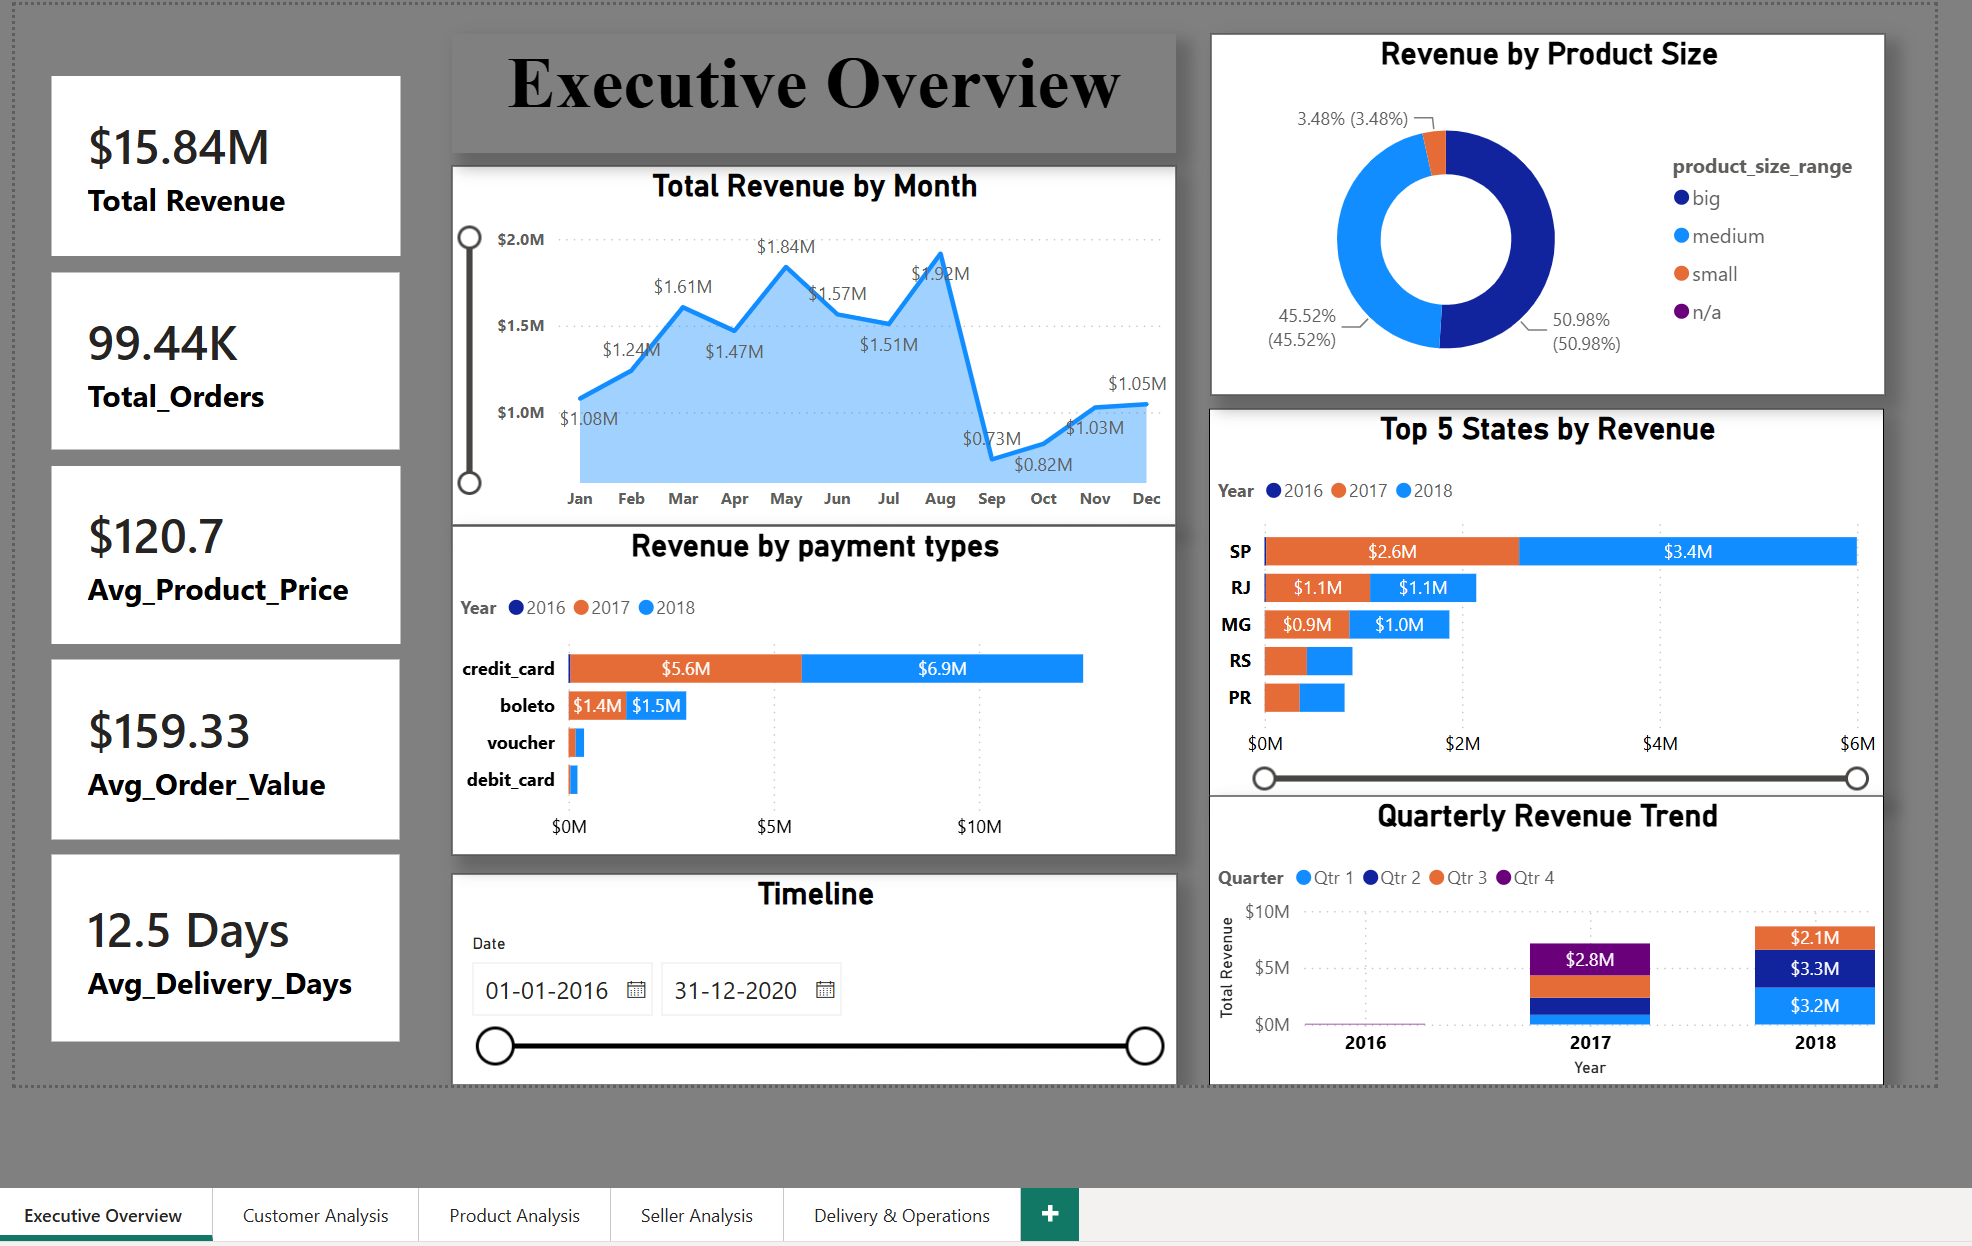

Layout of this report page (visuals, bound fields, positions):
{"tool":"powerbi","page":{"name":"Executive Overview","canvas":[1280,720],"ordinal":0},"visuals":[{"type":"cardVisual","fields":{"Data":["new_measure.Total_Orders"]},"box":[18.6,172.9,242.9,128.6],"z":0},{"type":"cardVisual","fields":{"Data":["new_measure.Total Revenue"]},"box":[18.9,42.2,242.9,130],"z":1000},{"type":"cardVisual","fields":{"Data":["new_measure.Avg_Delivery_Days_Text1"]},"box":[18.6,561.4,242.9,134.3],"z":2000},{"type":"cardVisual","fields":{"Data":["new_measure.Avg_Order_Value"]},"box":[18.6,431.4,242.9,130],"z":3000},{"type":"lineChart","fields":{"Category":["GOLD fact_order_items.Month"],"Y":["new_measure.Total Revenue"]},"box":[291.1,107.5,482.9,240],"z":4000},{"type":"slicer","title":"Timeline","fields":{"Values":["dim_date.Date"]},"box":[291.2,578.8,483.8,141.2],"z":5000},{"type":"barChart","title":"Top 5 States by Revenue","fields":{"Category":["GOLD dim_customers.customer_state"],"Series":["dim_date.Year"],"Y":["Sum(GOLD fact_order_payments.payment_value)"]},"box":[796.2,268.8,450,258.8],"z":6000},{"type":"donutChart","title":"Revenue by Product Size","fields":{"Category":["GOLD dim_products.product_size_range","GOLD fact_order_payments.payment_value"],"Y":["new_measure.Total Revenue"]},"box":[797.2,18.8,449.7,241],"z":7000},{"type":"textbox","box":[291.1,18.8,482.9,80],"z":8000},{"type":"barChart","title":"Revenue by payment types","fields":{"Category":["GOLD dim_order_payment_type.payment_type"],"Series":["dim_date.Year"],"Y":["Sum(GOLD fact_order_payments.payment_value)"]},"box":[291.1,347.5,483.1,219.1],"z":9000},{"type":"columnChart","title":"Quarterly Revenue Trend","fields":{"Category":["dim_date.Date.Variation.Date Hierarchy.Year"],"Series":["dim_date.Date.Variation.Date Hierarchy.Quarter"],"Y":["Divide(new_measure.Total Revenue, ScopedEval(new_measure.Total Revenue, []))"]},"box":[796.2,527,449.7,193],"z":10000},{"type":"cardVisual","fields":{"Data":["new_measure.Avg_Product_Price"]},"box":[18.9,302.2,242.9,128.6],"z":11000}]}

Visuals, with their boxes on the page's 1280x720 design canvas (x1, y1, x2, y2). These are canvas units, not pixel positions in the 1972x1246 screenshot, which may show the page scaled, cropped or inside an application window:
cardVisual - new_measure.Total_Orders: {"left": 19, "top": 173, "right": 262, "bottom": 302}
cardVisual - new_measure.Total Revenue: {"left": 19, "top": 42, "right": 262, "bottom": 172}
cardVisual - new_measure.Avg_Delivery_Days_Text1: {"left": 19, "top": 561, "right": 262, "bottom": 696}
cardVisual - new_measure.Avg_Order_Value: {"left": 19, "top": 431, "right": 262, "bottom": 561}
lineChart - GOLD fact_order_items.Month x new_measure.Total Revenue: {"left": 291, "top": 108, "right": 774, "bottom": 348}
"Timeline" slicer: {"left": 291, "top": 579, "right": 775, "bottom": 720}
"Top 5 States by Revenue" barChart: {"left": 796, "top": 269, "right": 1246, "bottom": 528}
"Revenue by Product Size" donutChart: {"left": 797, "top": 19, "right": 1247, "bottom": 260}
textbox: {"left": 291, "top": 19, "right": 774, "bottom": 99}
"Revenue by payment types" barChart: {"left": 291, "top": 348, "right": 774, "bottom": 567}
"Quarterly Revenue Trend" columnChart: {"left": 796, "top": 527, "right": 1246, "bottom": 720}
cardVisual - new_measure.Avg_Product_Price: {"left": 19, "top": 302, "right": 262, "bottom": 431}
